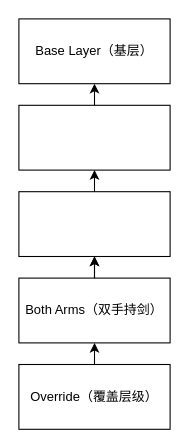
This 189x448 diagram has some shape labels left out. Each missing label, with the centre of its shape:
"Left Arm（左手持剑）" goes at pixel 94 223.
"Right Arm（右手持剑）" goes at pixel 94 137.
